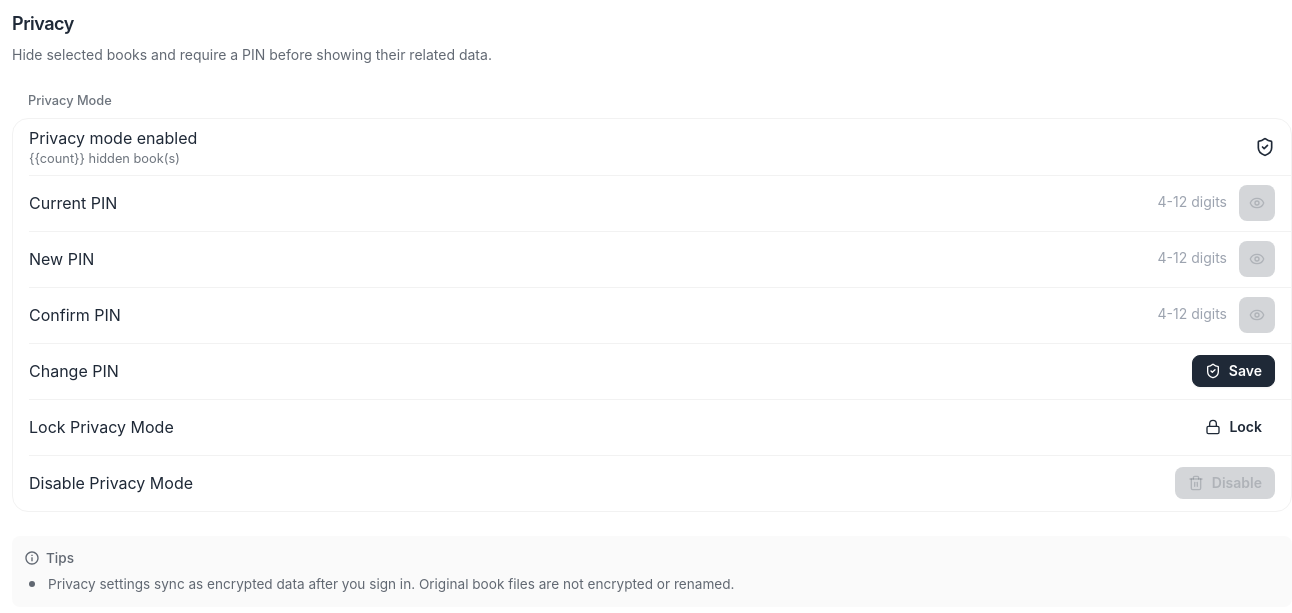
Test: PrivacyPanel PIN input › marks the current PIN when changing it fails
Type "1111" into the password field labelled "Current PIN".
click(1127, 203); type("1111")  # box [1019,185,1235,221]
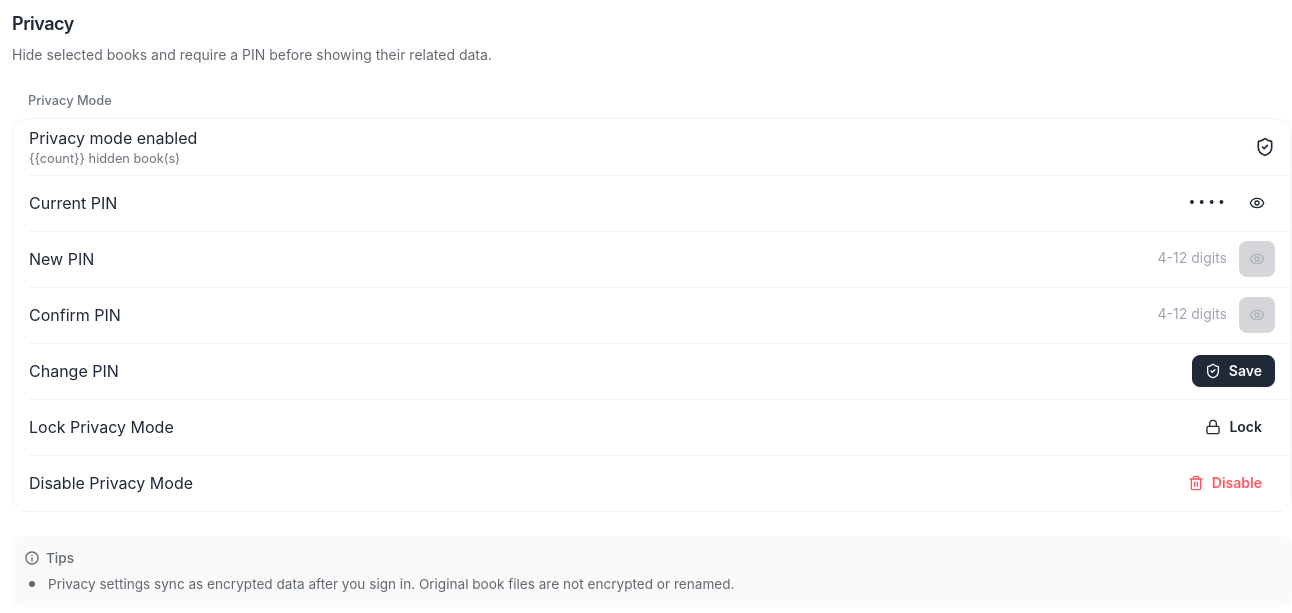
Type "2222" into the password field labelled "New PIN".
click(1127, 259); type("2222")  # box [1019,241,1235,277]
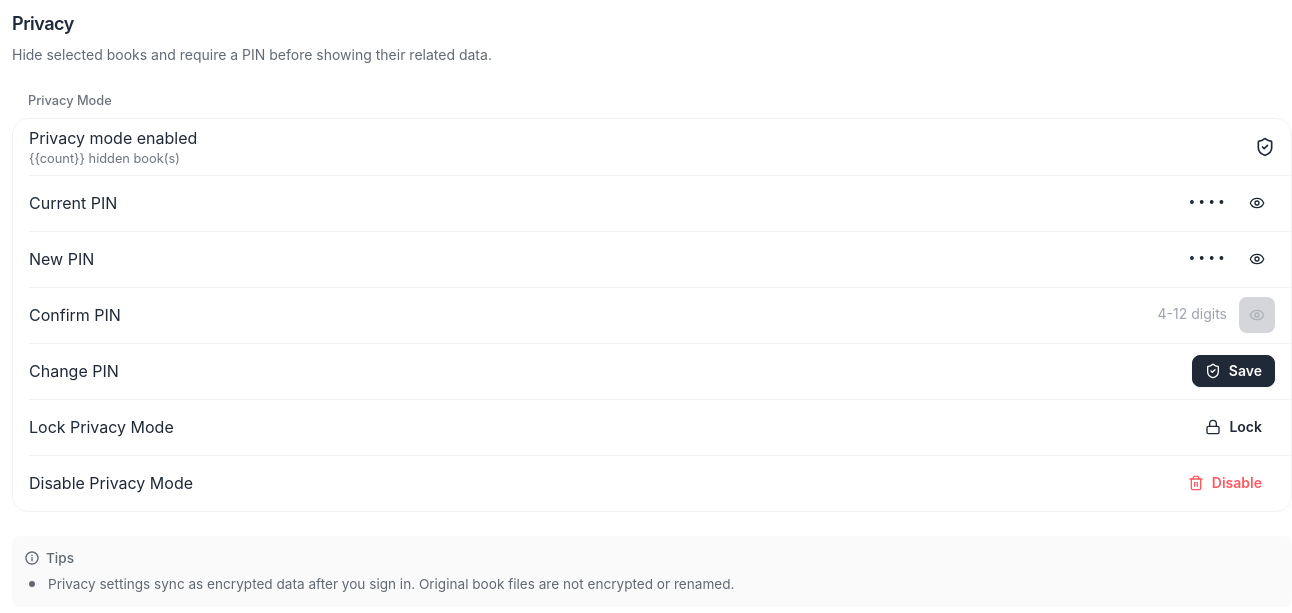
Type "2222" into the password field labelled "Confirm PIN".
click(1127, 315); type("2222")  # box [1019,297,1235,333]
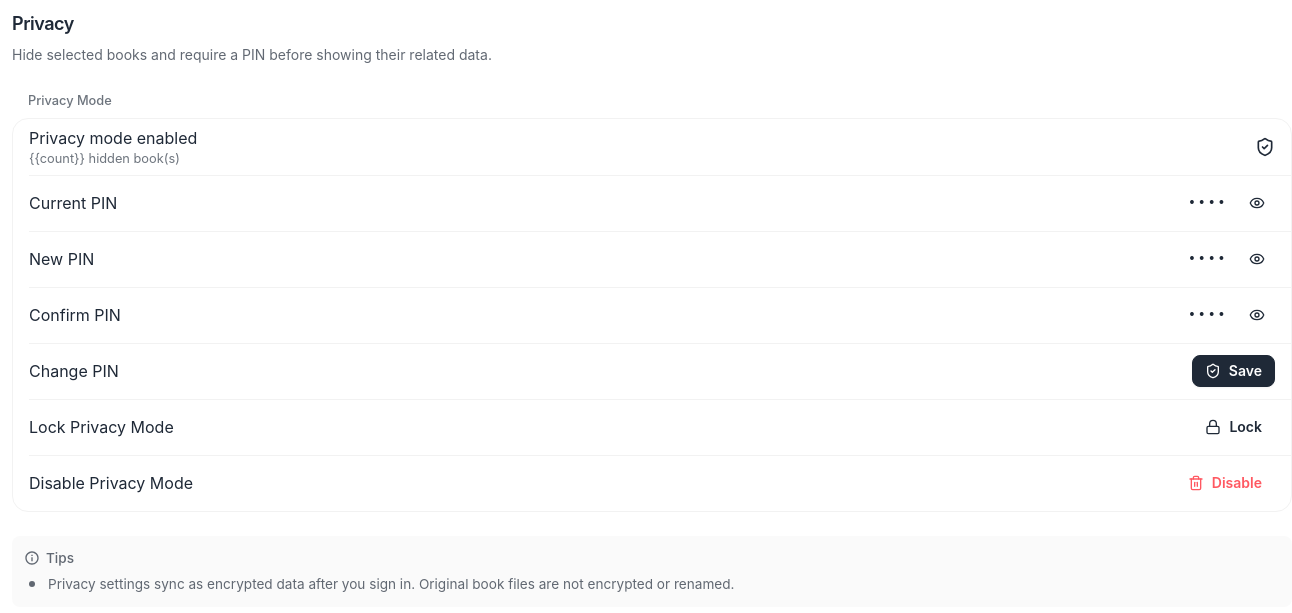
Click the button "Save".
click(1233, 371)  # box [1192,355,1275,387]
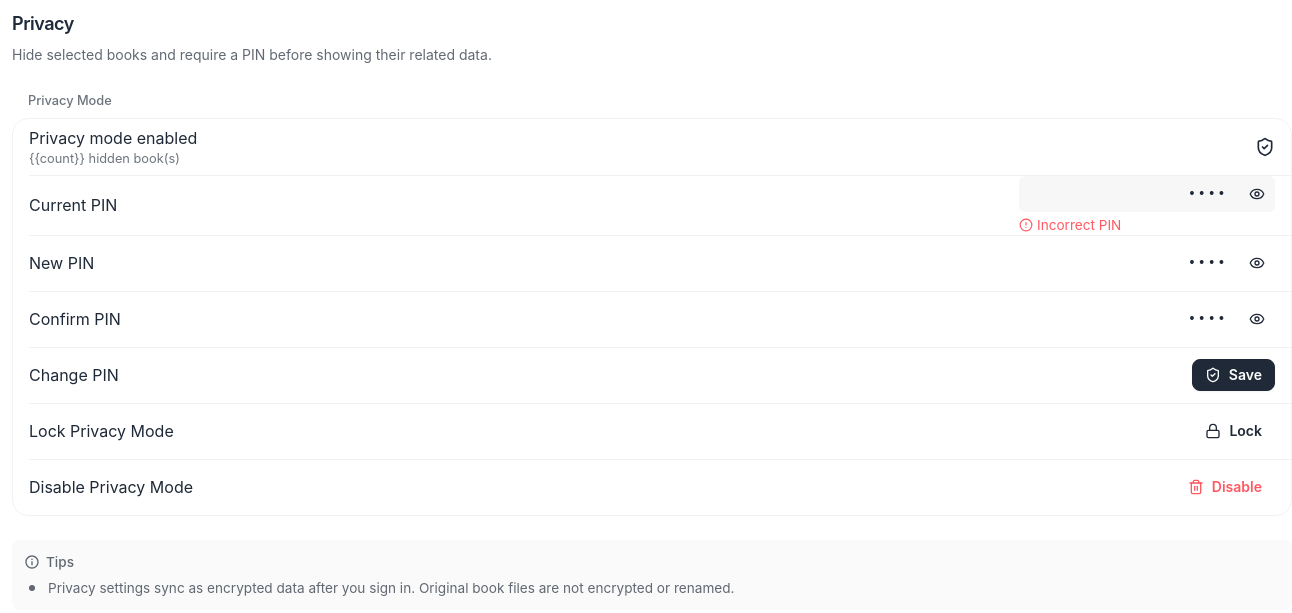
Check: the message reads "Incorrect PIN", box [1037,217,1121,233]
